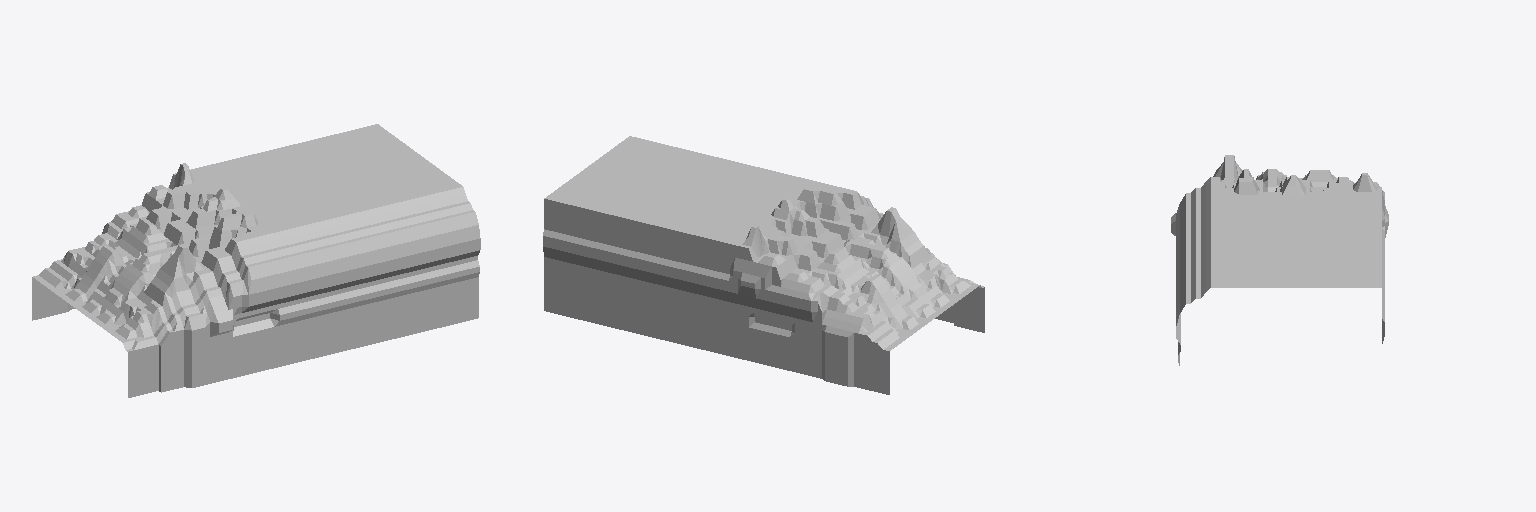
File: mMountainLeft1.obj
3 renders of one model, left to right at view 1: azimuth 30°, elevation 25°; view 2: azimuth 150°, elevation 25°; view 3: azimuth 270°, elevation 25°, orthographic.
Visible parts, largest first — view 1: mMountainLeft1; view 2: mMountainLeft1; view 3: mMountainLeft1.
Boxes of the visible parts, x1=… form: mMountainLeft1: x1=32, y1=124, x2=480, y2=397; mMountainLeft1: x1=543, y1=136, x2=984, y2=394; mMountainLeft1: x1=1171, y1=155, x2=1388, y2=365.
Bounding box in the file's own units: 92.12 × 34.55 × 50.11.